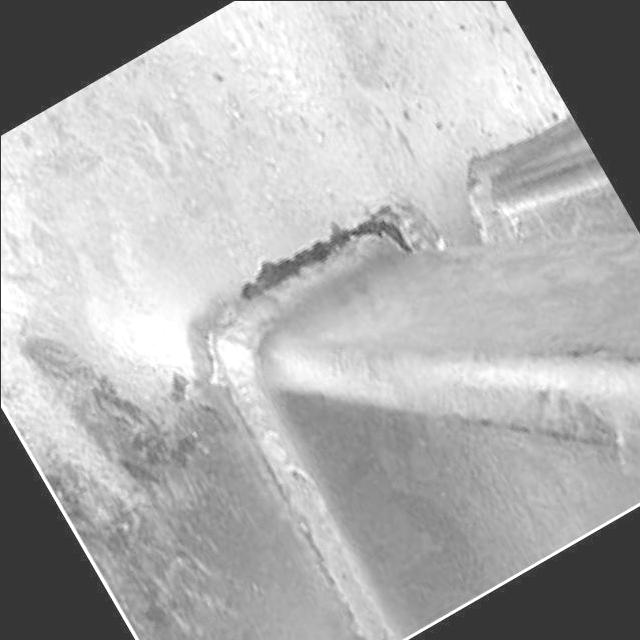defect: (234, 198, 417, 305)
